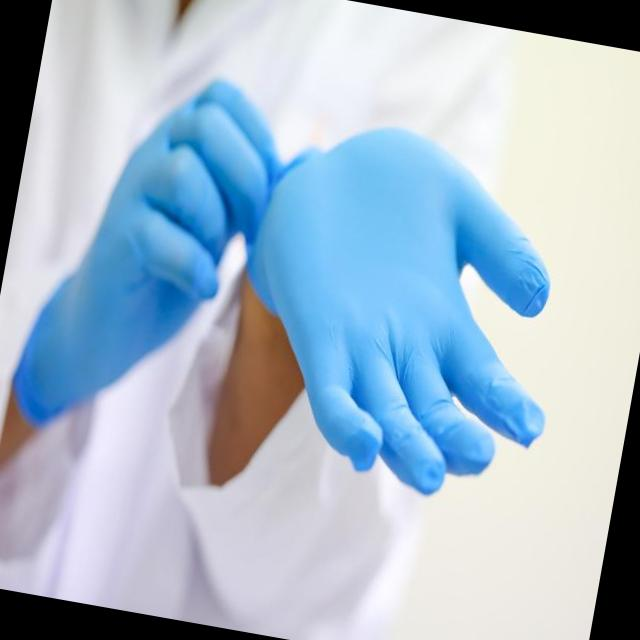Gloves: (237, 98, 606, 520), (9, 40, 296, 474)
